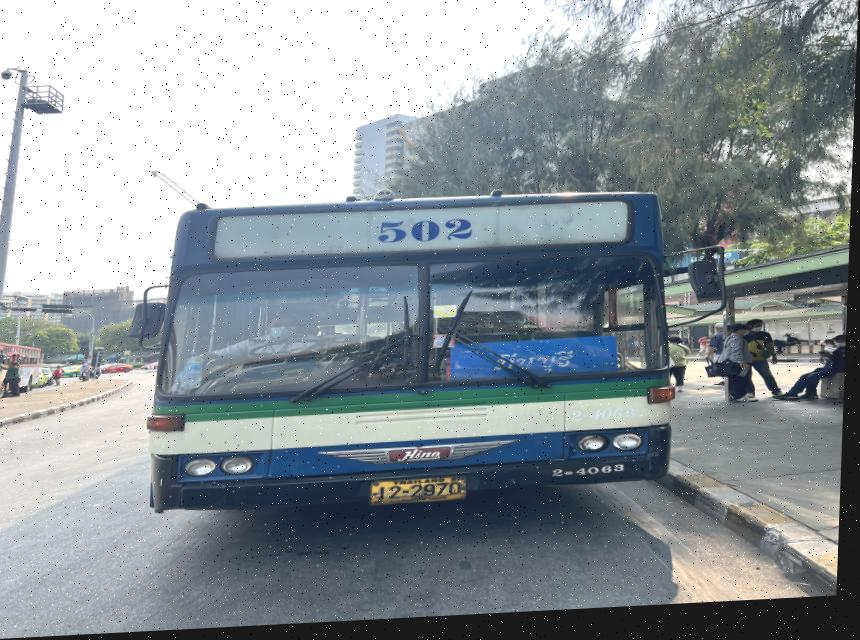BMTA-bus: (148, 199, 683, 518)
Bus Line Number: (364, 214, 501, 254)
Bus Side Number: (549, 467, 637, 488)
Destination Sign: (450, 340, 621, 388)
